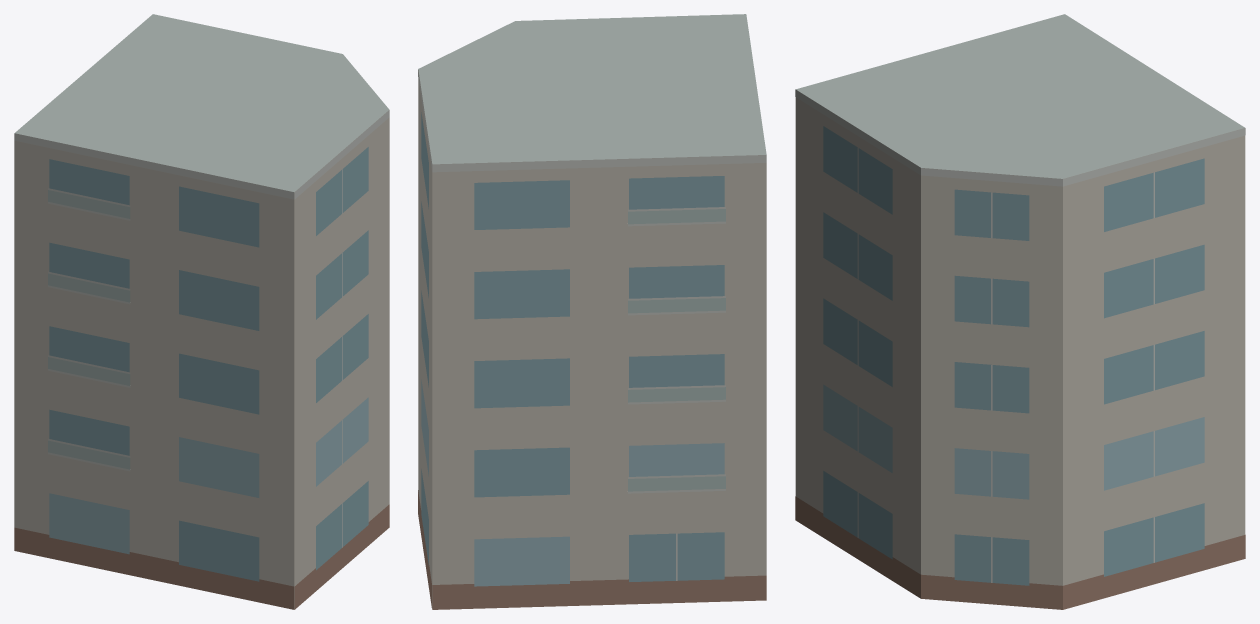
Rendered from survey-upis-32851216.glb.
3 renders of one model, left to right at view 1: azimuth 30°, elevation 25°; view 2: azimuth 150°, elevation 25°; view 3: azimuth 270°, elevation 25°, orthographic. The views are drawn at different scales.
Visible parts, largest first — view 1: survey-upis-32851216.tmp; view 2: survey-upis-32851216.tmp; view 3: survey-upis-32851216.tmp.
Boxes of the visible parts, x1=… form: survey-upis-32851216.tmp: x1=14, y1=14, x2=389, y2=609; survey-upis-32851216.tmp: x1=418, y1=14, x2=766, y2=609; survey-upis-32851216.tmp: x1=795, y1=14, x2=1245, y2=609.
Bounding box in the file's own units: 11.25 × 13.7 × 12.97.
